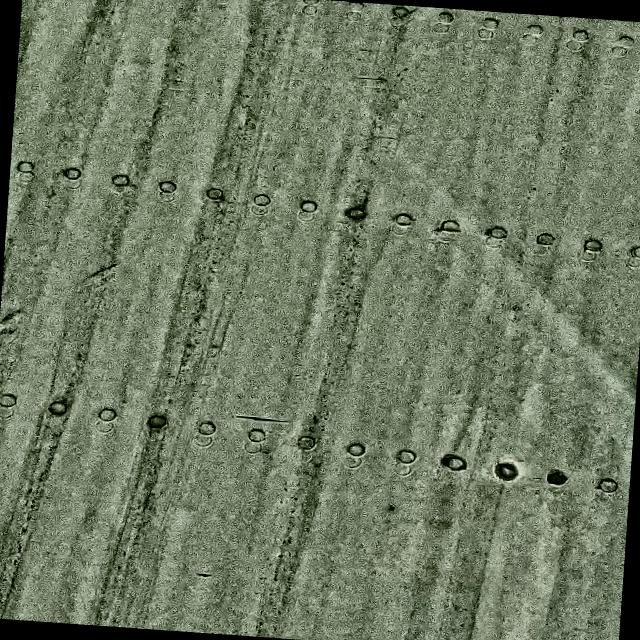crack: (236, 406, 284, 428), (192, 571, 212, 581)
